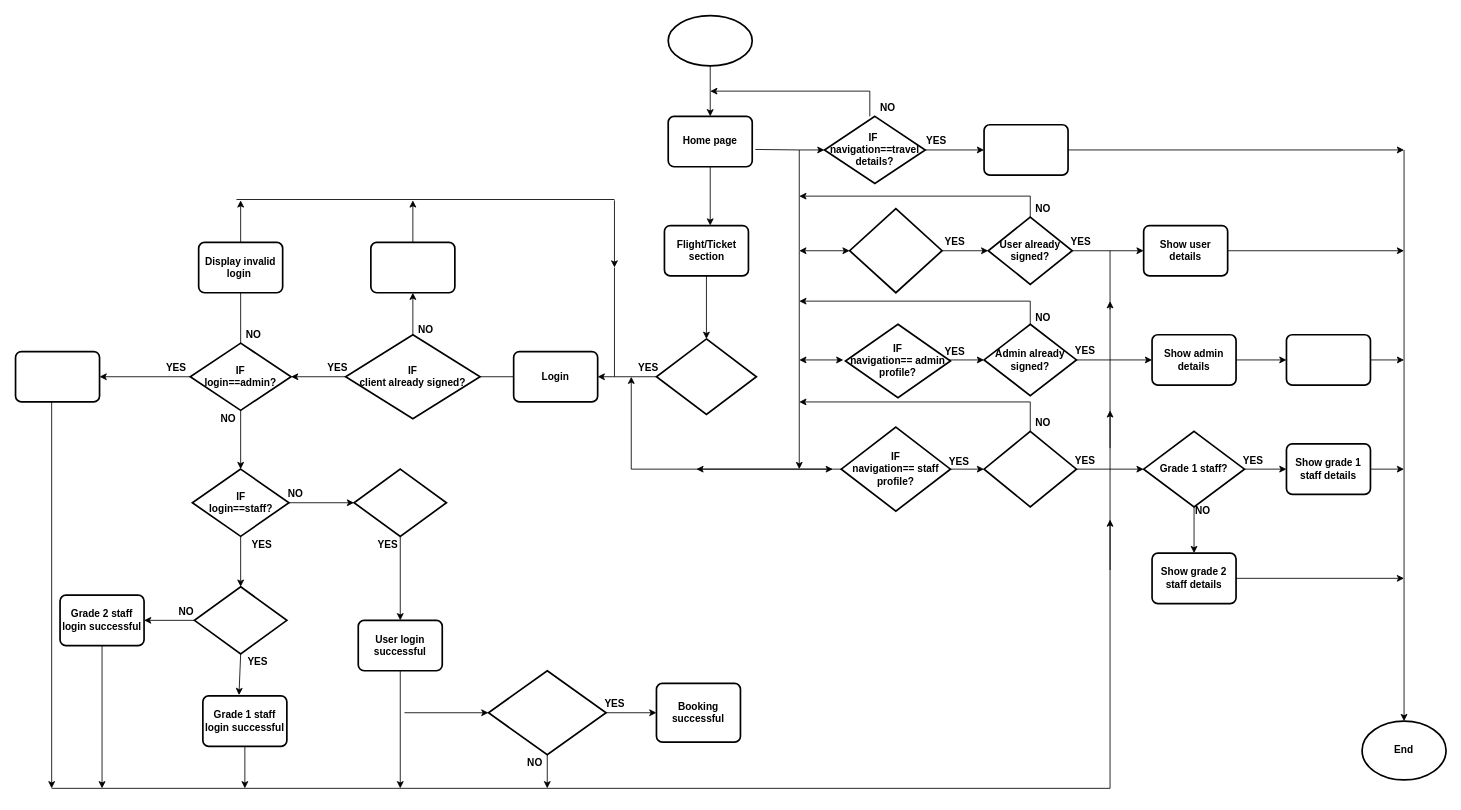
The diagram is 1461 pixels wide and 810 high, and some of its shapes have lost their labels. Each missing label, with the box of its shape:
Admin login successful: (14, 350, 100, 402)
Create new account: (370, 241, 455, 293)
IF click==book?: (655, 338, 757, 415)
IF grade==1?: (193, 585, 287, 654)
IF login==user?: (353, 468, 447, 537)
IF navigation==user profile?: (848, 207, 942, 293)
IF user click==book?: (487, 669, 606, 755)
Monitoring staff details: (1285, 333, 1371, 386)
Show travel details: (983, 123, 1068, 176)
Staff already signed?: (983, 430, 1077, 507)
Start: (667, 14, 753, 66)
